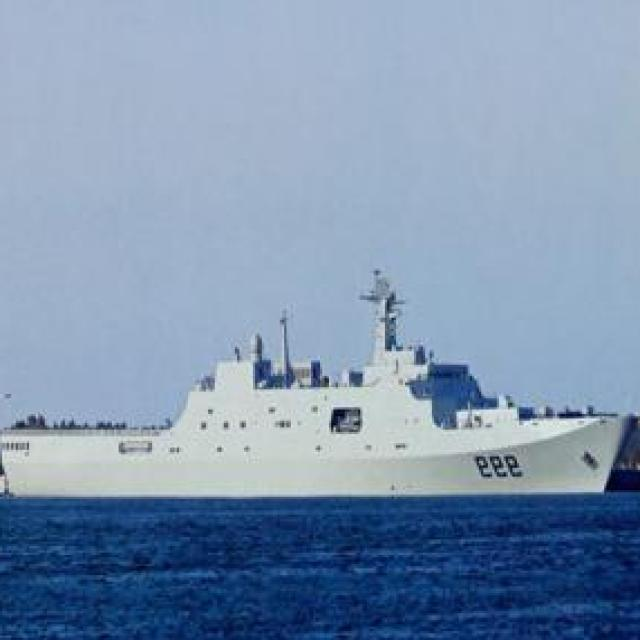navalvessels: (0, 259, 633, 500)
